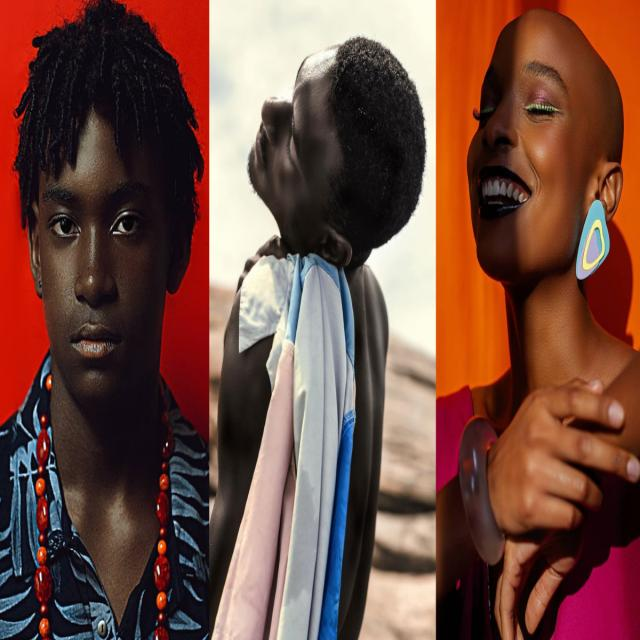sem_oculos: (27, 178, 195, 249), (464, 75, 607, 146), (276, 67, 320, 216)
